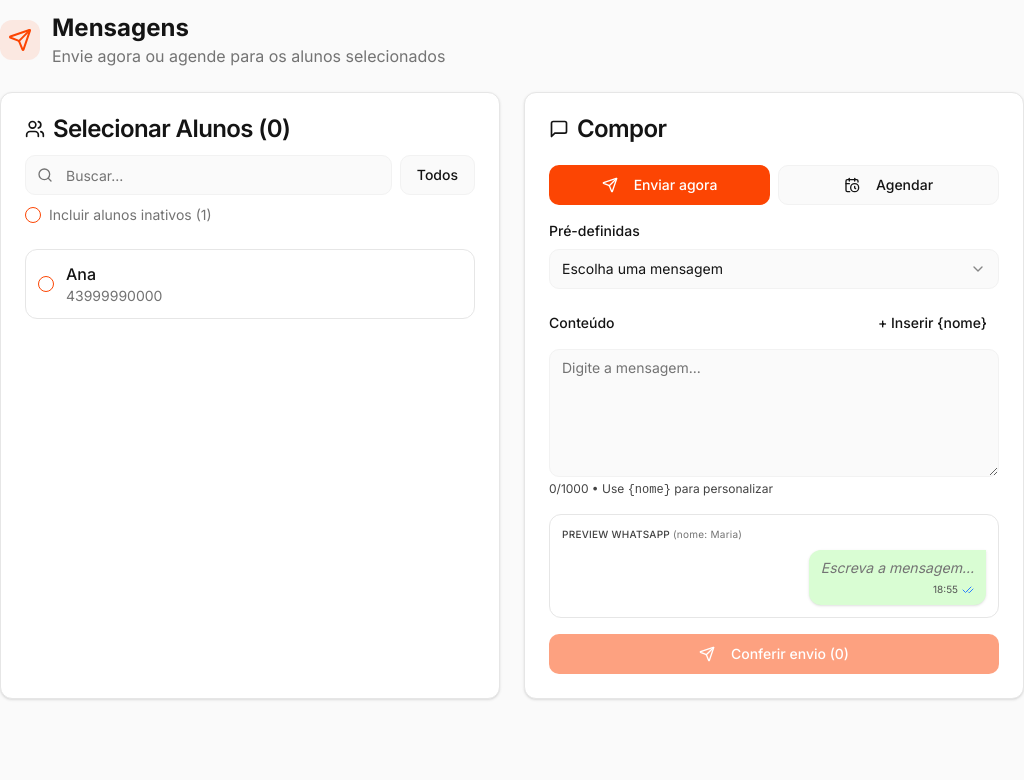
Scenario: keeps inactive students out of the default list and drops them when hidden again
The image size is (1024, 780).
Expected: the text "Bruno" is not shown
Click the button "Todos" at (437, 175), box [400,155,475,195]
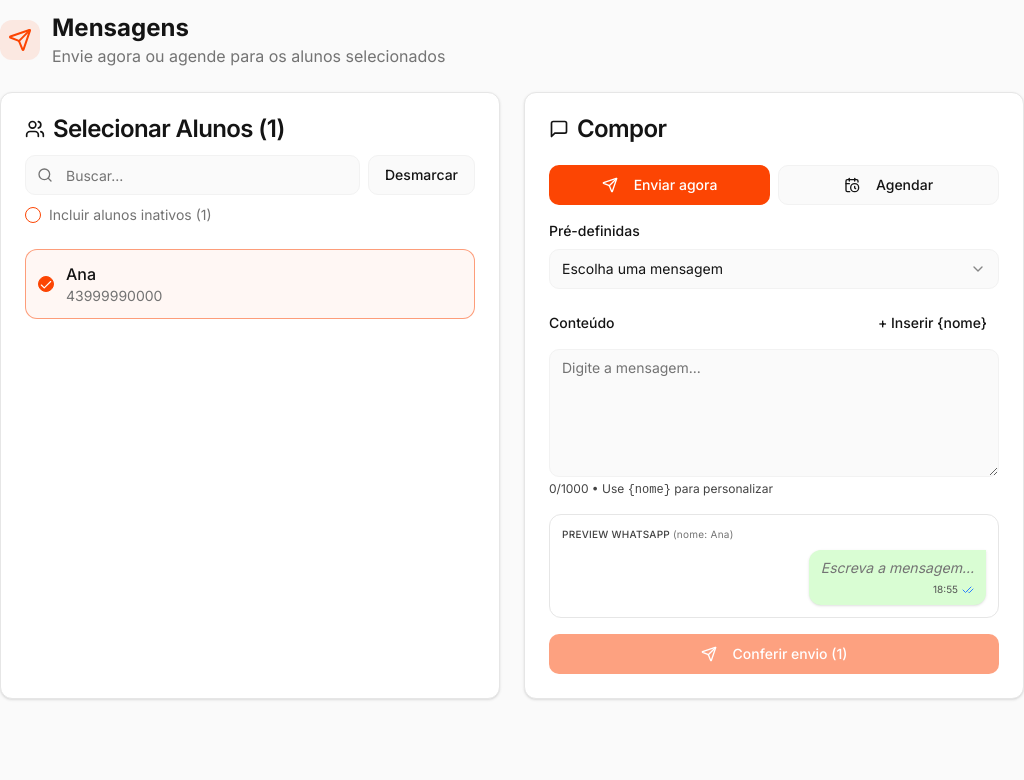
Now the heading "Selecionar Alunos (1)" is shown, box [25,114,285,143]
Click the checkbox named "Incluir alunos inativos (1)" at (33, 215), box [25,207,41,223]
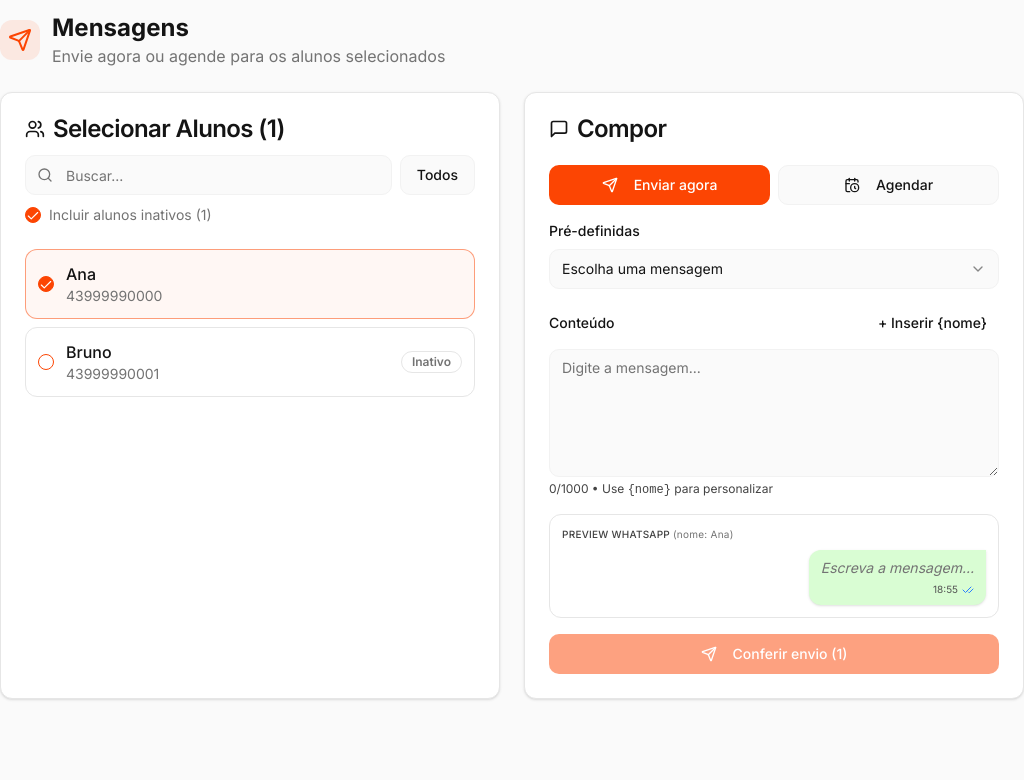
Now the text "Inativo" is shown, box [401,351,462,373]
Click the text "Bruno" at (89, 352), box [66,342,112,362]
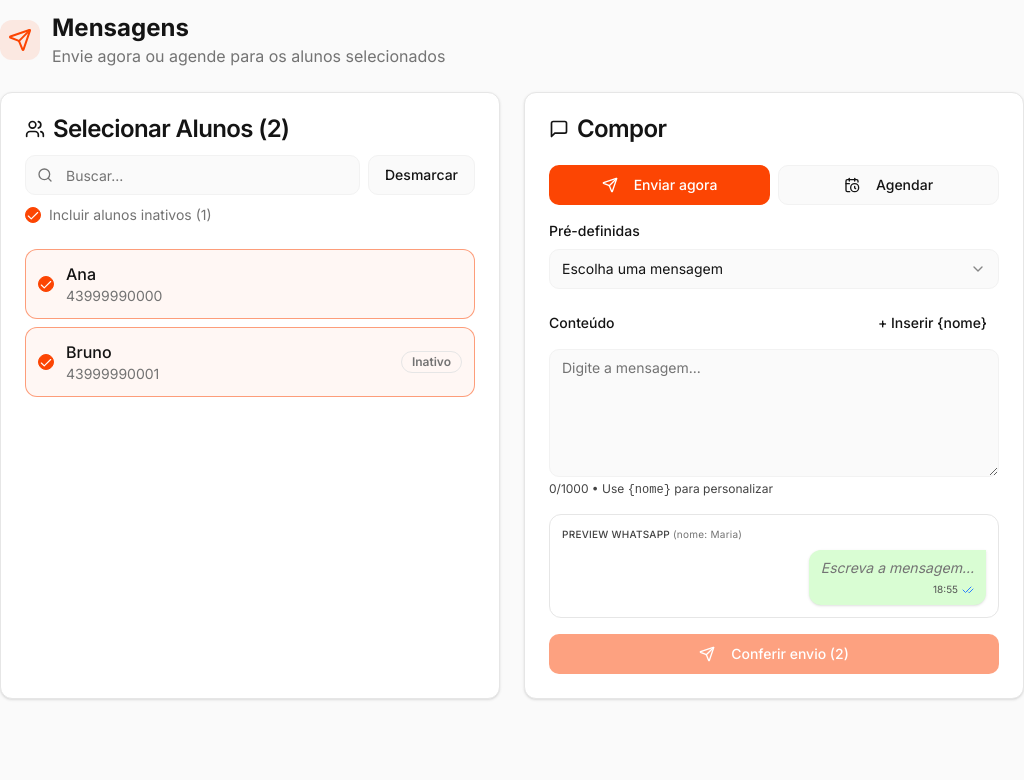
Now the heading "Selecionar Alunos (2)" is shown, box [25,114,289,143]
Click the checkbox named "Incluir alunos inativos (1)" at (33, 215), box [25,207,41,223]
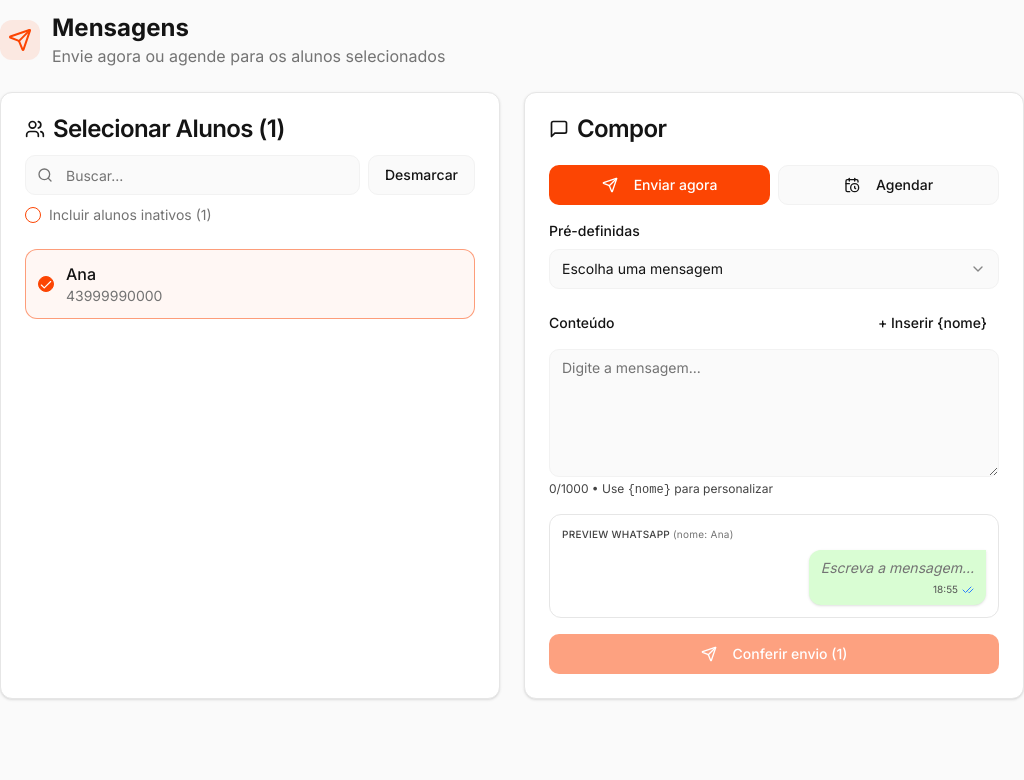
Now the text "Bruno" is gone
Now the heading "Selecionar Alunos (1)" is shown, box [25,114,285,143]
